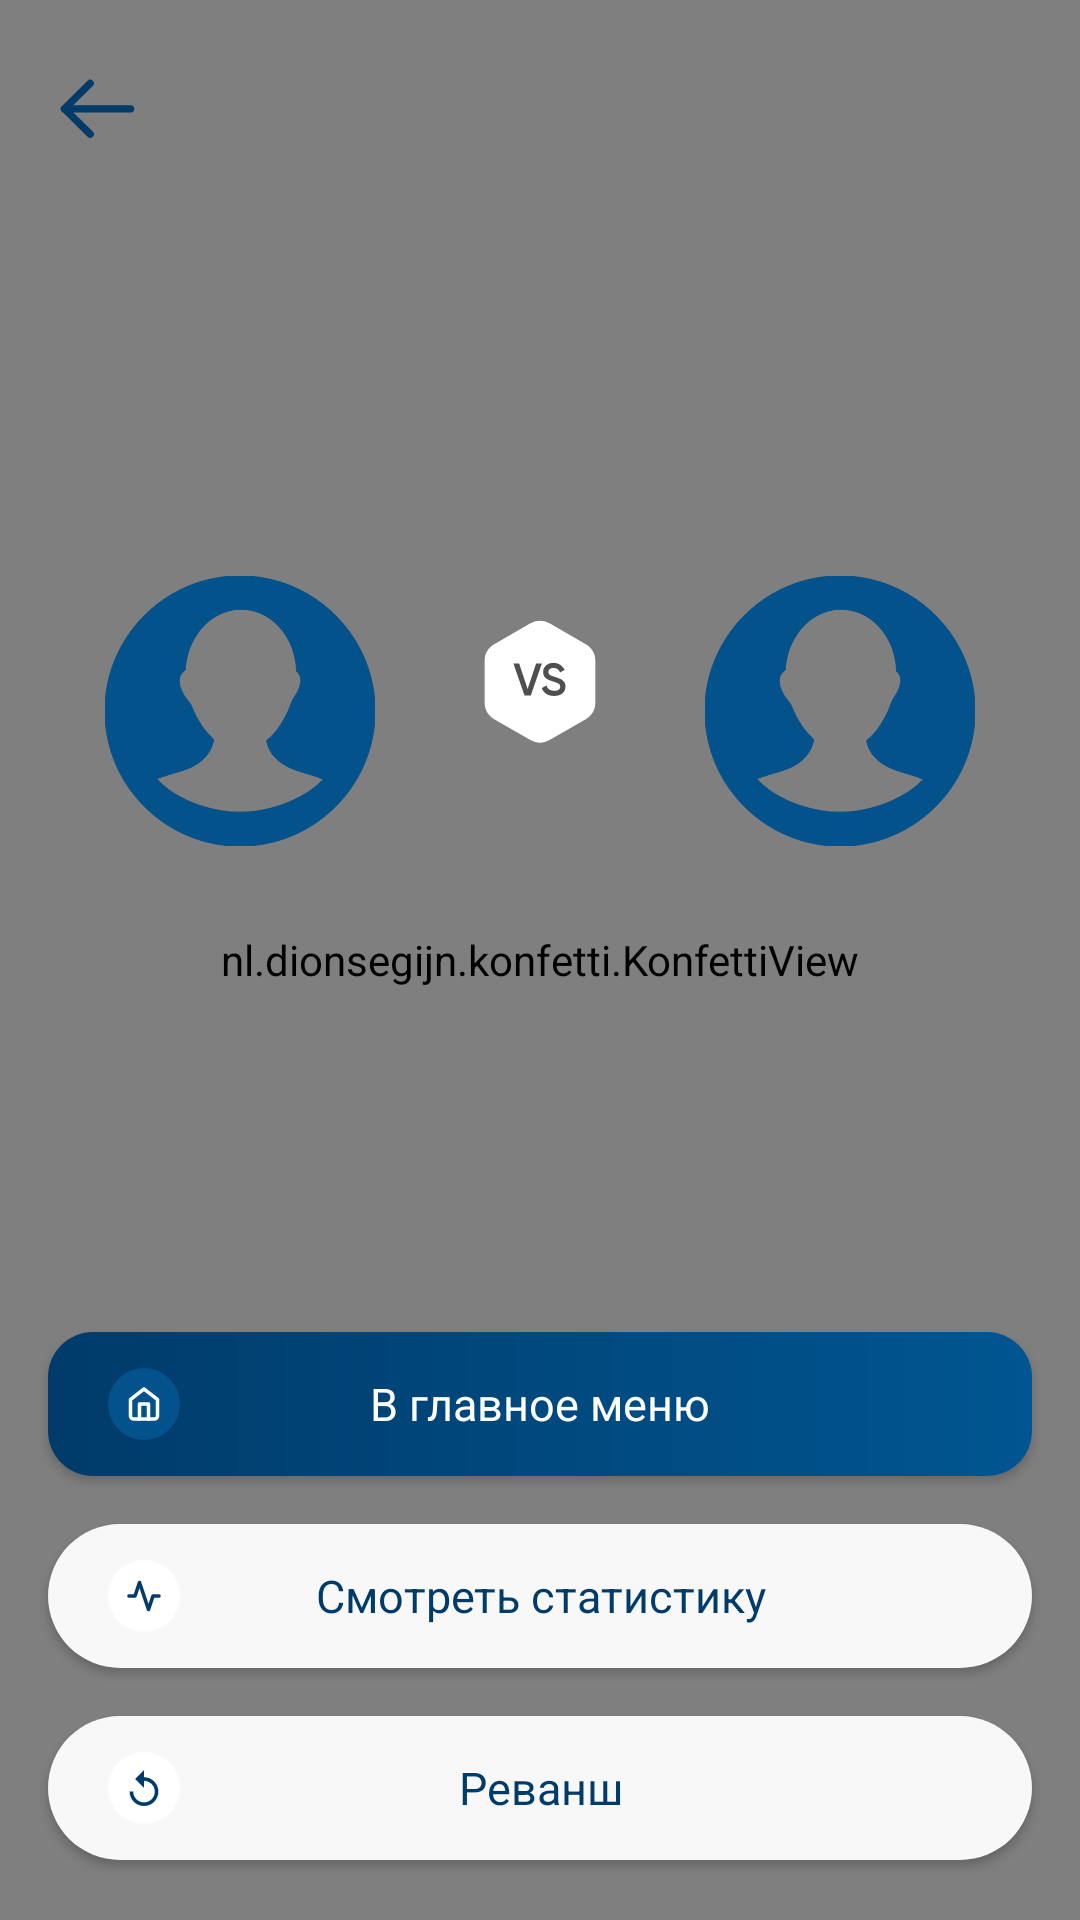

Point at icon controls on the screen. Image size 1080px×1920px, points as [x,y].
back cursor: [97,108]
user: [240,711], [840,711]
versus: [540,681]
